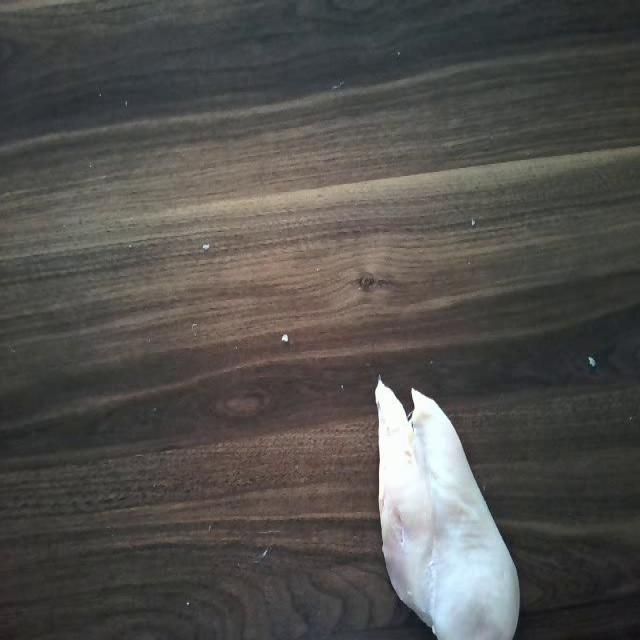breast: (370, 373, 522, 640)
